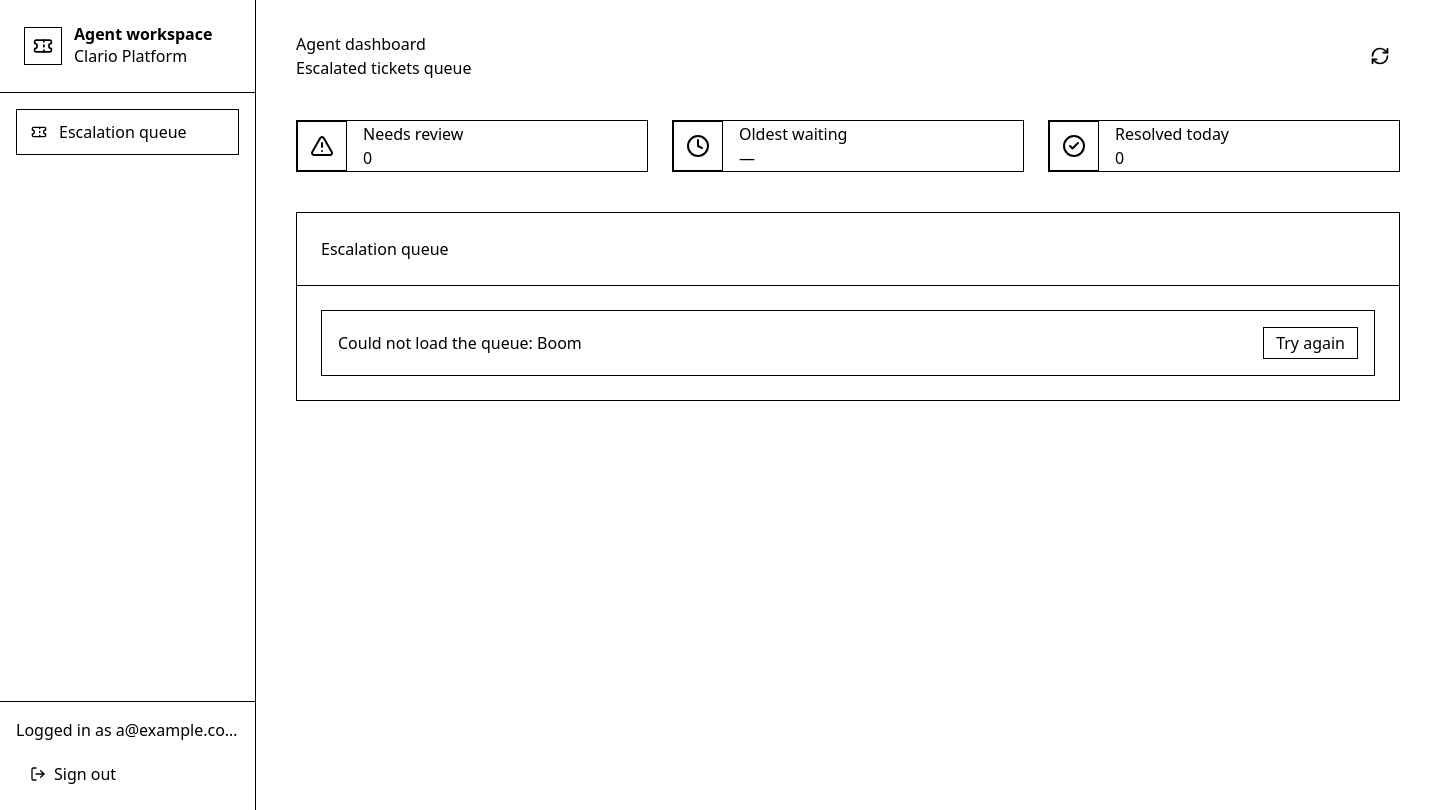
Agent queue - token markup and semantics › renders the load error as an alert with a working Try again button
expect the message shows "Could not load the queue:": met, box x1=338 y1=332 x2=537 y2=354
What coordinates should you click on to do the following:
click the button "Try again"
I would click on:
 (1311, 343)
Its box is x1=1263 y1=327 x2=1358 y2=359.
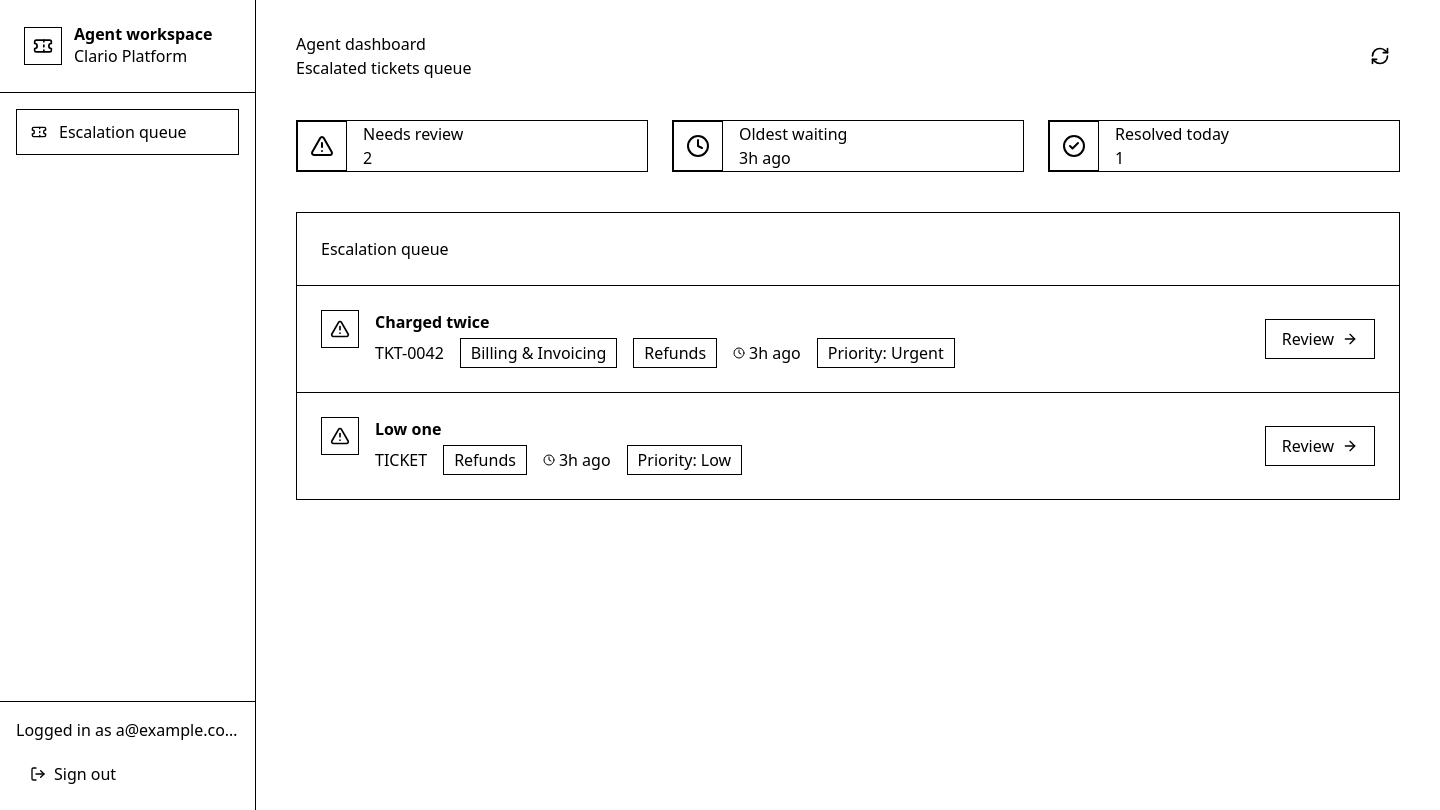
expect the number of list items is 2: met, box x1=297 y1=286 x2=1399 y2=393; x1=321 y1=417 x2=1375 y2=475
expect the message "Could not load the queue: Boom Try again" is gone: met
